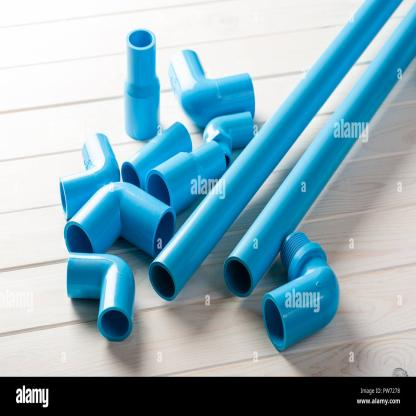PVC: (59, 0, 401, 341), (225, 6, 414, 352)
